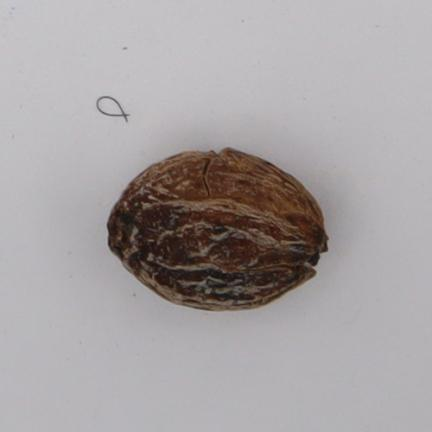full-black: (107, 149, 327, 310)
